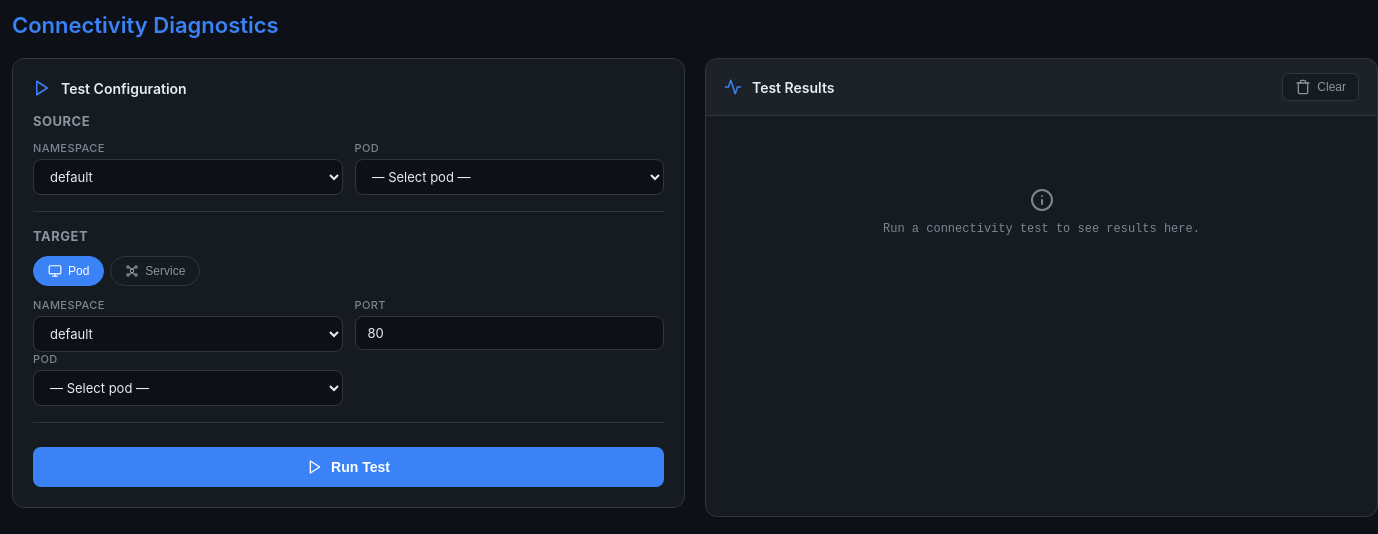
Test: DiagnosticsPanel › shows validation error when target service name is empty
The width and height of the screenshot is (1378, 534).
# Select source
Select "production" in the 1st dropdown at (188, 177), box [33,159,342,195]
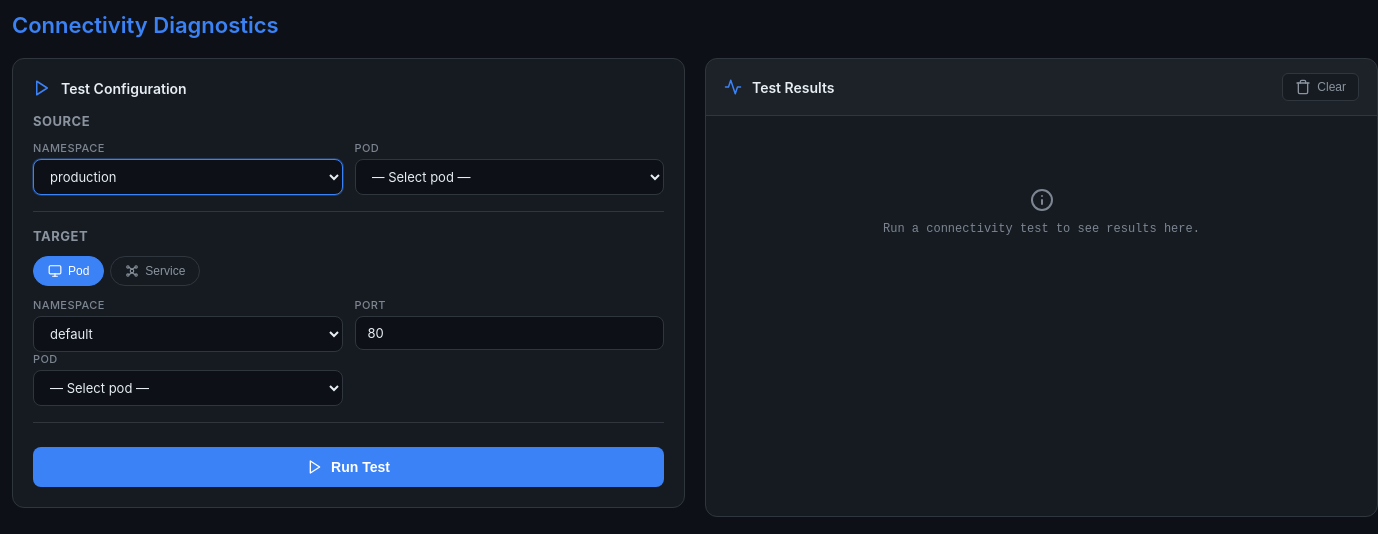
Select "api-1" in the 2nd dropdown at (509, 177), box [354,159,664,195]
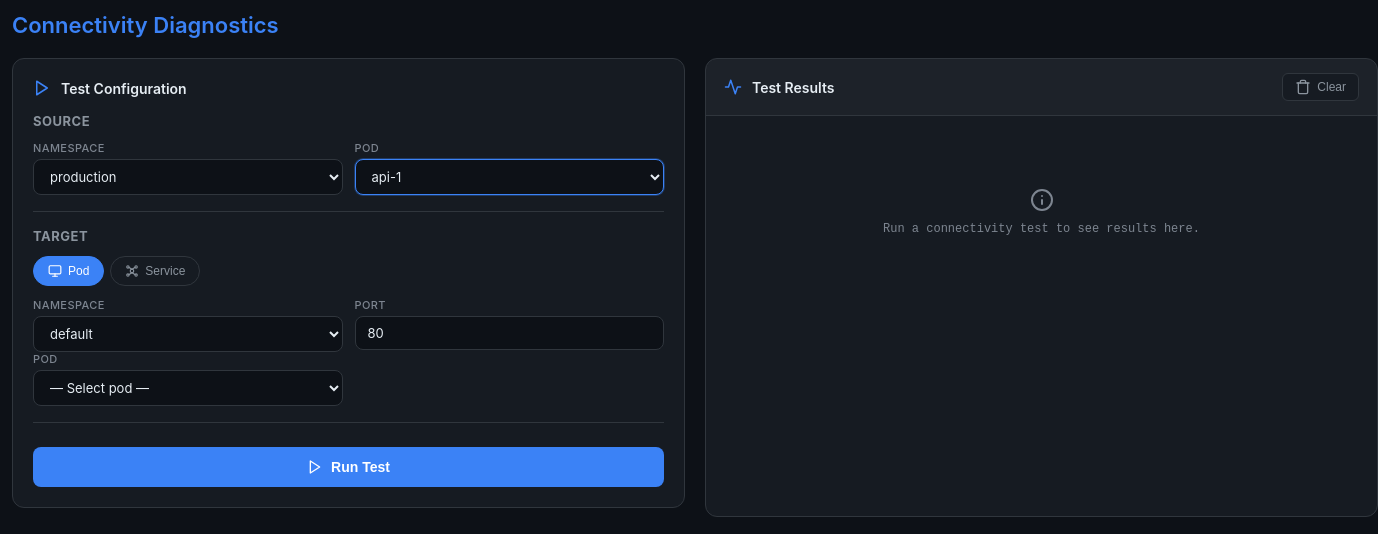
# Switch target type to service
Click the button "Service" at (155, 271), box [110,256,200,286]
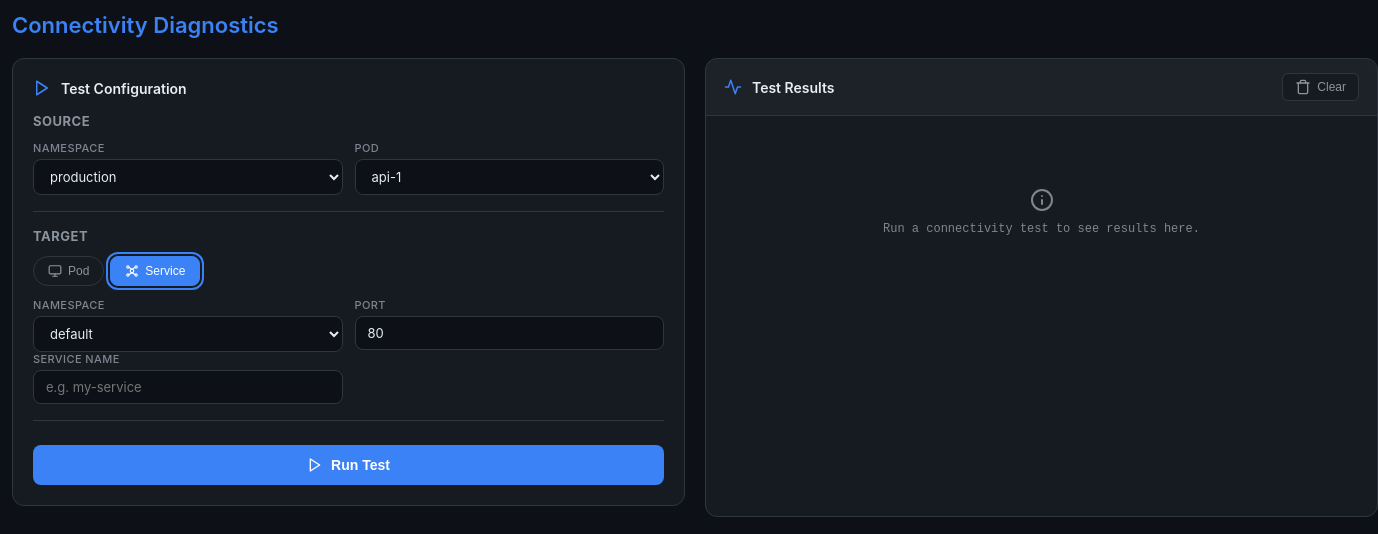
Click the button "Run Test" at (348, 465), box [33,445,664,485]
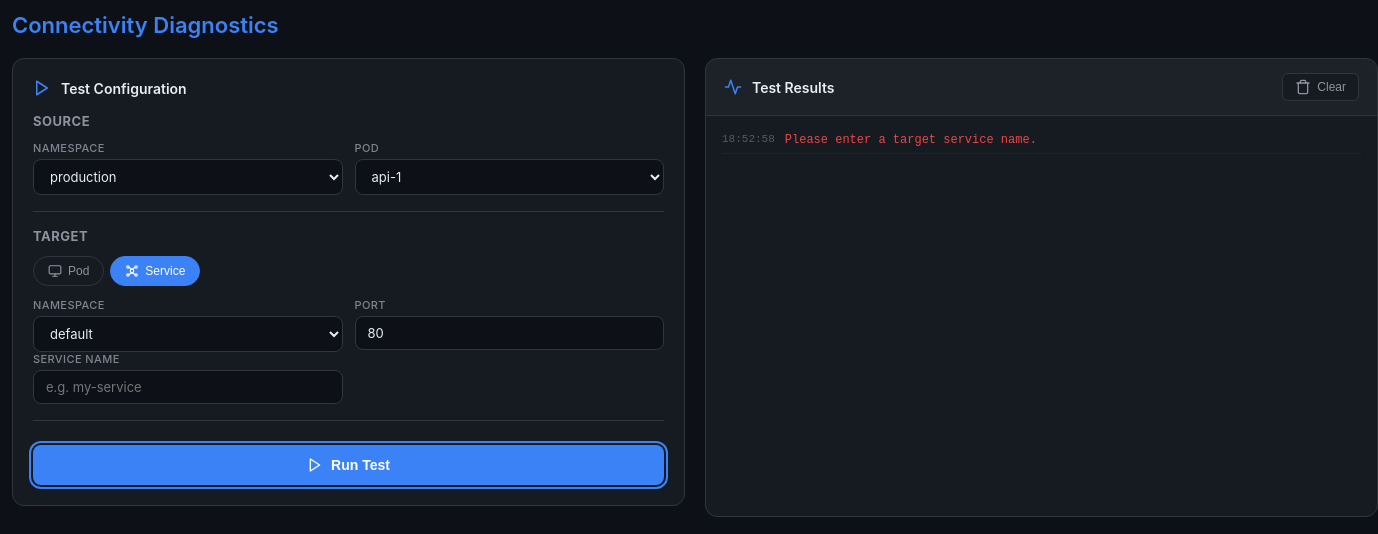
Expected: the text "Please enter a target service name." is shown, [785,131,1037,150]
